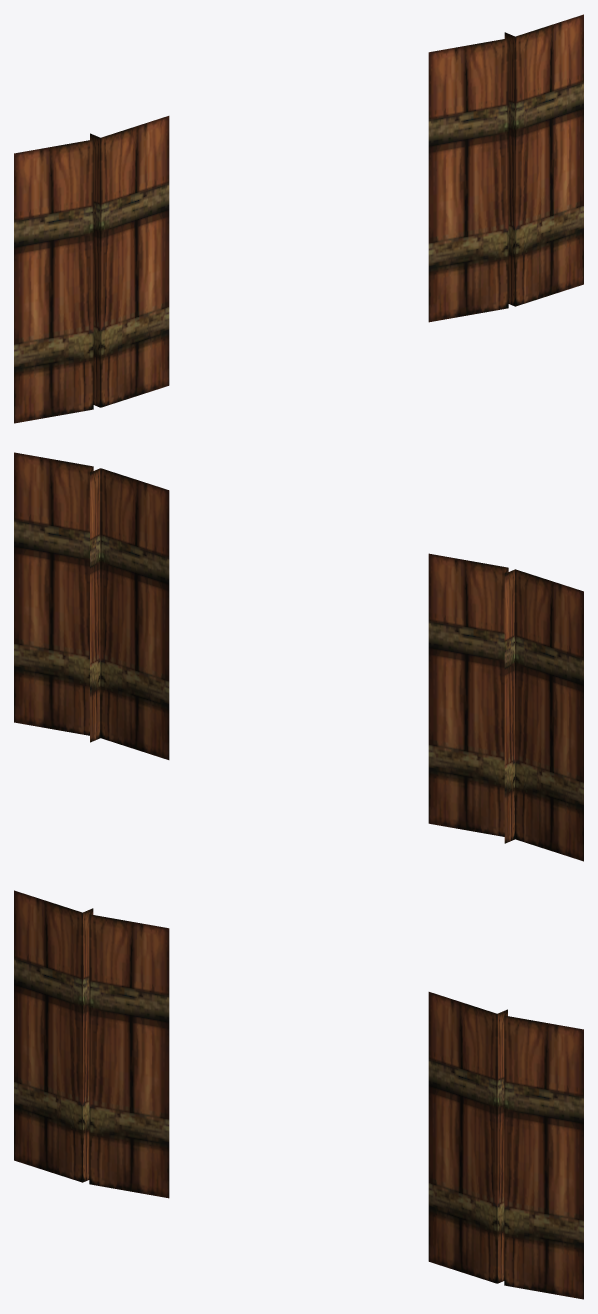
The model's file is LAKETOWN_EXTERIOR_PS_LT_SHUTTERS153.fbx.
The picture shows the model from 3 angles, top to bottom: view 1: azimuth 30°, elevation 25°; view 2: azimuth 150°, elevation 25°; view 3: azimuth 330°, elevation 25°; orthographic projection.
Visible parts, largest first — view 1: LAKETOWN_EXTERIOR_PS_LT_SHUTTERS153; view 2: LAKETOWN_EXTERIOR_PS_LT_SHUTTERS153; view 3: LAKETOWN_EXTERIOR_PS_LT_SHUTTERS153.
Boxes of the visible parts, bbox=[...] form: LAKETOWN_EXTERIOR_PS_LT_SHUTTERS153: bbox=[14, 14, 583, 423]; LAKETOWN_EXTERIOR_PS_LT_SHUTTERS153: bbox=[14, 452, 583, 861]; LAKETOWN_EXTERIOR_PS_LT_SHUTTERS153: bbox=[14, 890, 583, 1299].
Size of the model in its own units: 32782 by 14842 by 730.
Materials: 1 (1 with a texture image).
